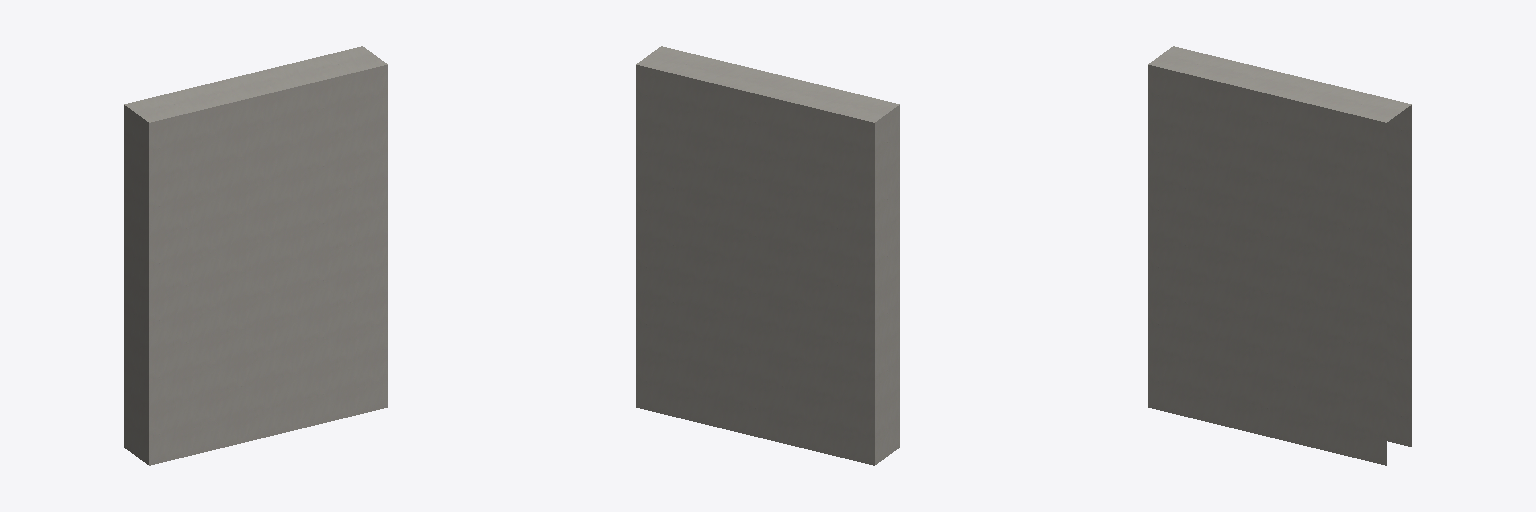
The picture shows the model from 3 angles: view 1: azimuth 30°, elevation 25°; view 2: azimuth 150°, elevation 25°; view 3: azimuth 330°, elevation 25°; orthographic projection.
Parts seen in each view (by area): view 1: Box011; view 2: Box011; view 3: Box011.
Part boxes in pixels (bbox=[...]): Box011: bbox=[124, 46, 387, 465]; Box011: bbox=[636, 46, 899, 465]; Box011: bbox=[1148, 46, 1411, 465].
Size of the model in its own units: 86.06 by 118 by 15.75.
1 materials, 1 textured.